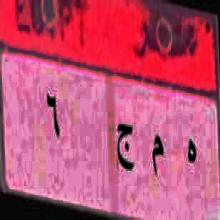6: (44, 87, 63, 144)
haa: (181, 126, 198, 174)
jeem: (113, 114, 136, 179)
meem: (150, 128, 166, 183)
